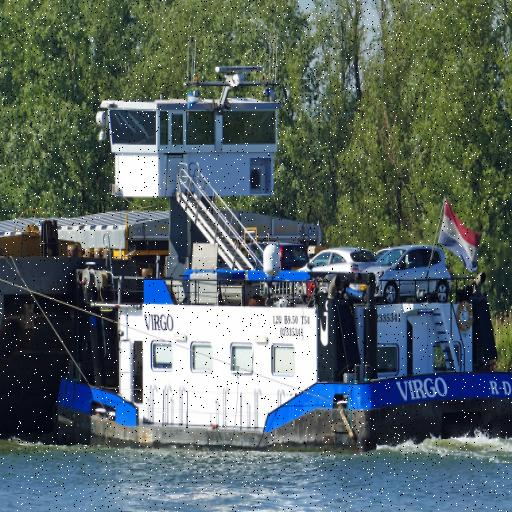tugboat: (41, 33, 512, 463)
